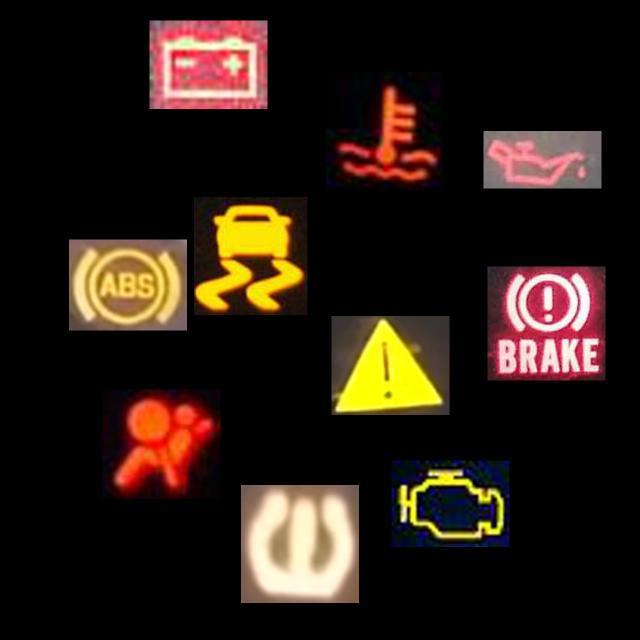Central Warning lamp: (332, 316, 449, 415)
Engine cooling system: (326, 72, 444, 190)
